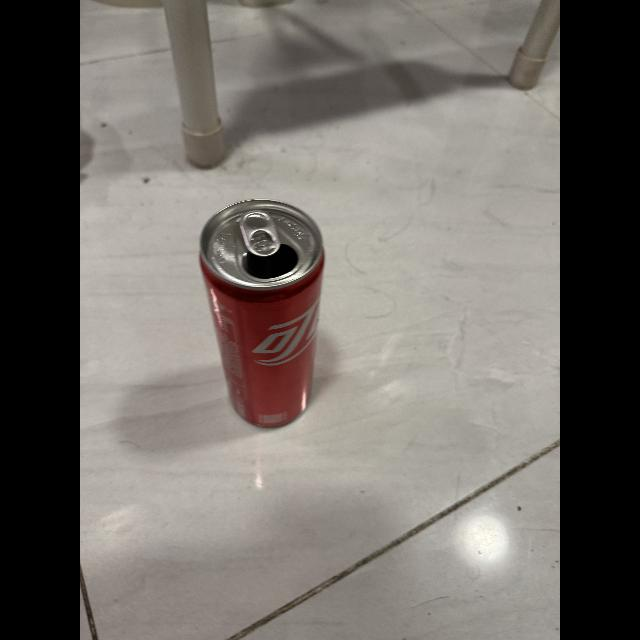Cola: (193, 194, 339, 433)
